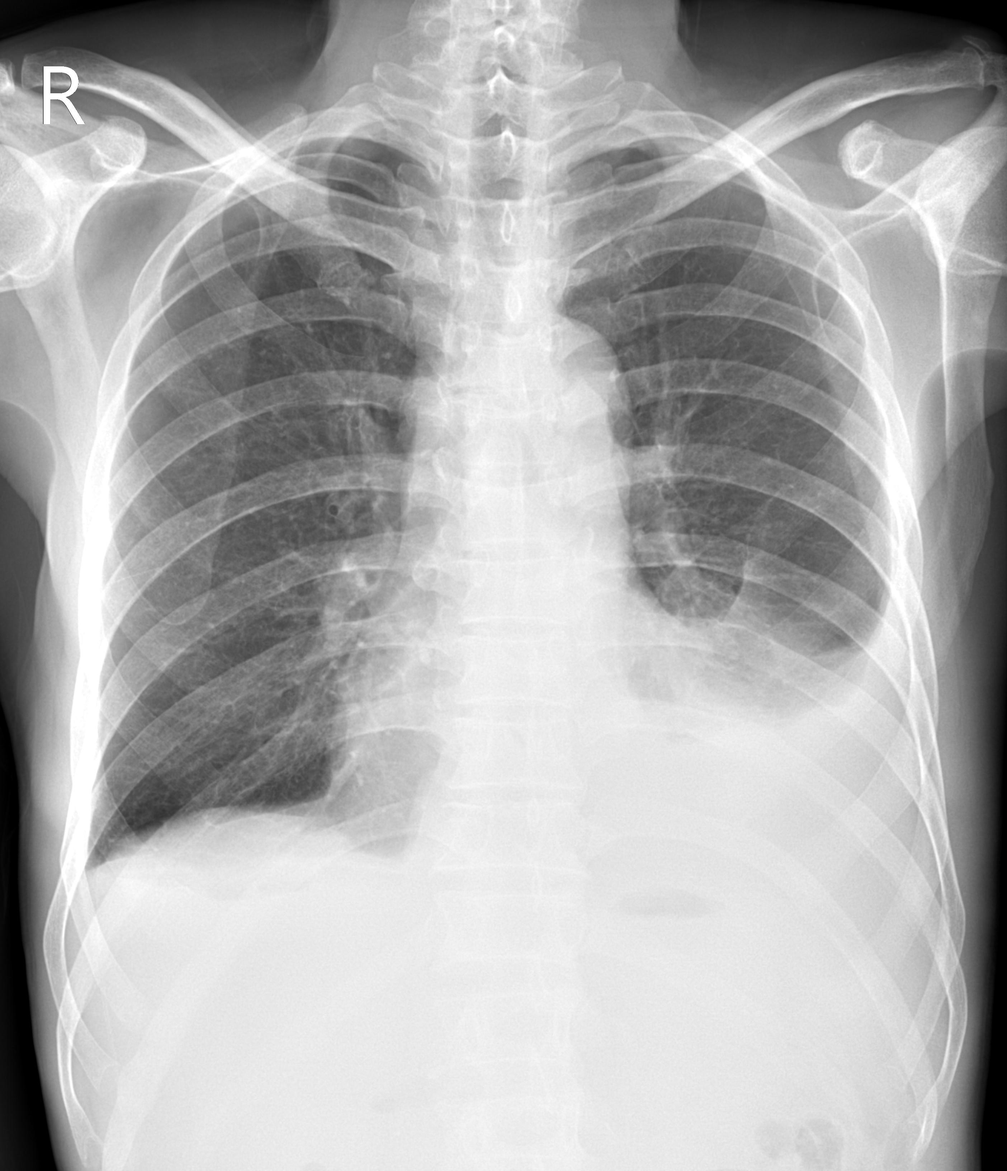Pleural thickening: (65, 815, 147, 908), (668, 127, 751, 170)
